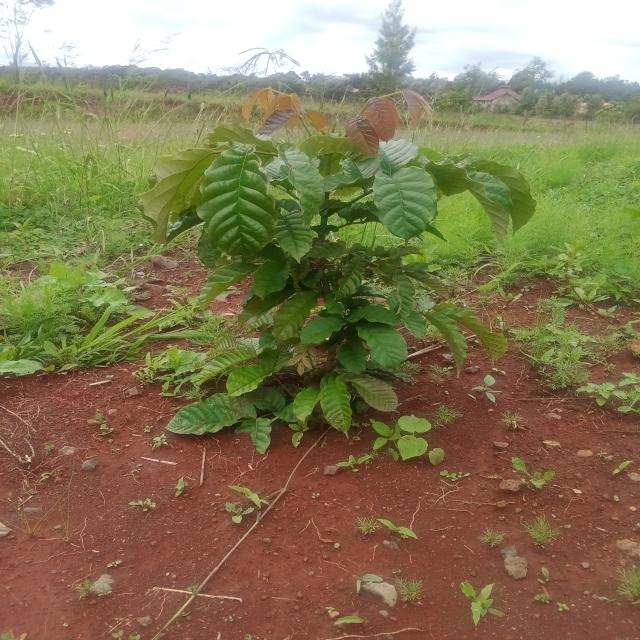Polyscias Kikuyensis: (138, 71, 541, 440)
